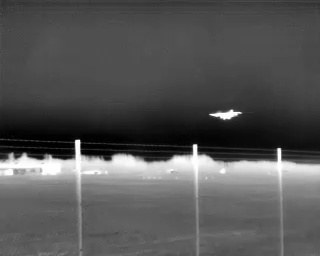AIRPLANE: (206, 106, 245, 123)
